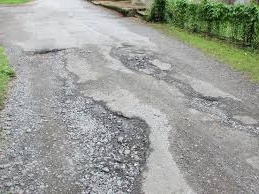pothole: (0, 40, 150, 194), (182, 89, 257, 129), (109, 45, 155, 72), (157, 71, 197, 89)
